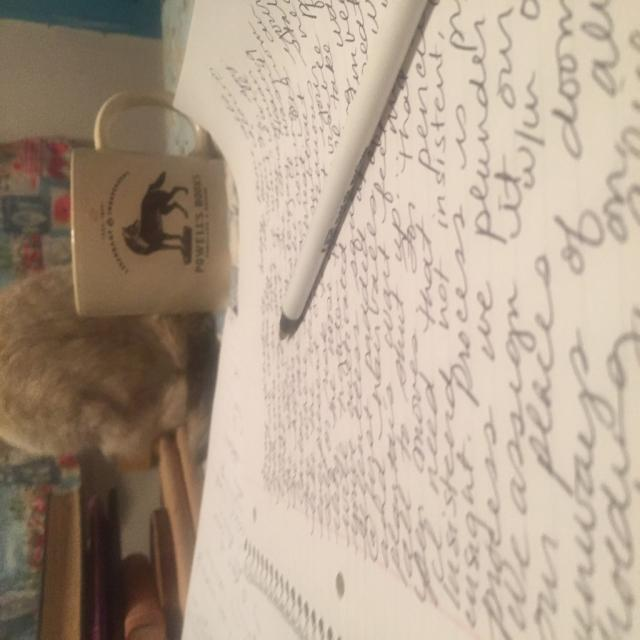pen: (275, 0, 436, 346)
